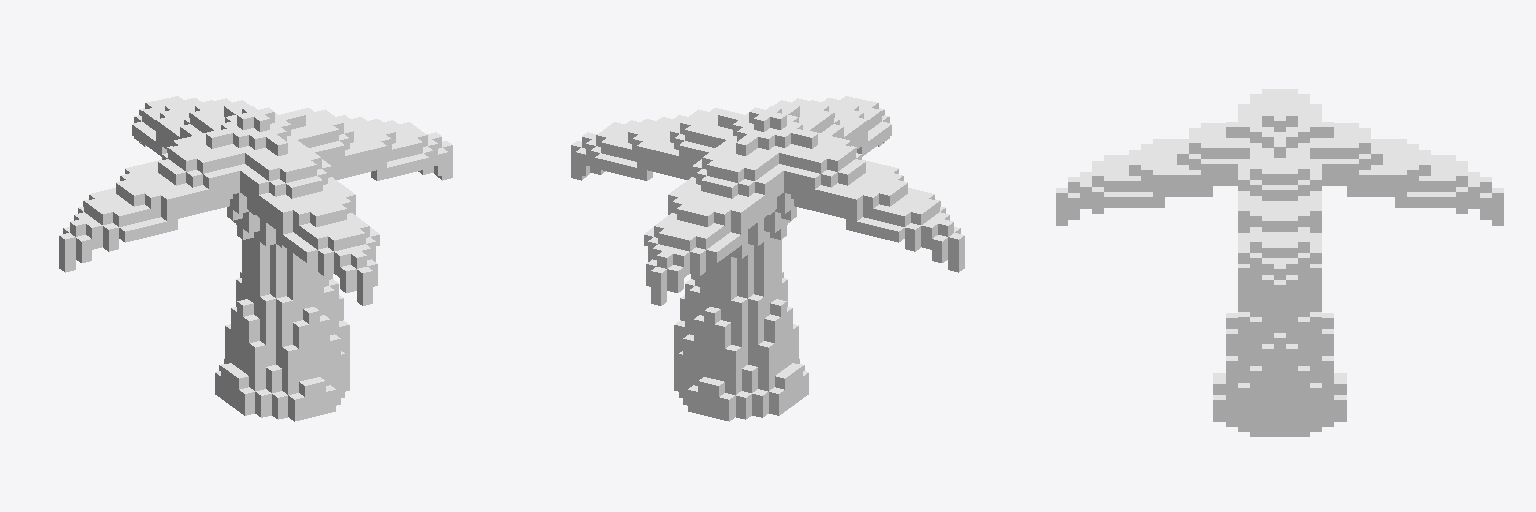
The model's file is palm.obj.
3 views of the same model, side by side, from view 1: azimuth 30°, elevation 25°; view 2: azimuth 150°, elevation 25°; view 3: azimuth 270°, elevation 25° (orthographic).
Visible parts, largest first — view 1: object 1; view 2: object 1; view 3: object 1.
Boxes of the visible parts, x1,y1,x2,y2 form: object 1: [59, 96, 452, 421]; object 1: [571, 96, 964, 421]; object 1: [1056, 89, 1503, 436].
Size of the model in its own units: 3.7 by 2.6 by 3.7.